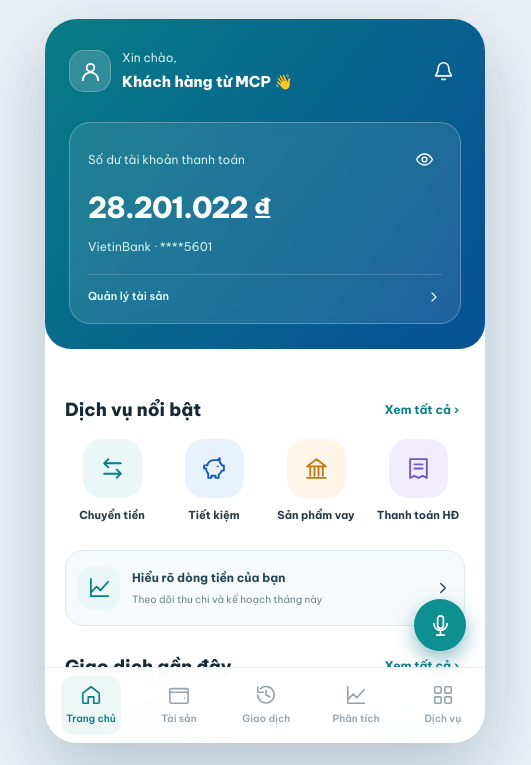
Test case: shows the backend profile and prevents demo bills from changing its balance
Check: the text "Khách hàng từ MCP 👋" is shown, box 122,70 -> 293,94
Check: the text "28.201.022 ₫" is shown, box 88,189 -> 271,226
Click the button "Thanh toán HĐ" at (418, 481), box 371,438 -> 465,524
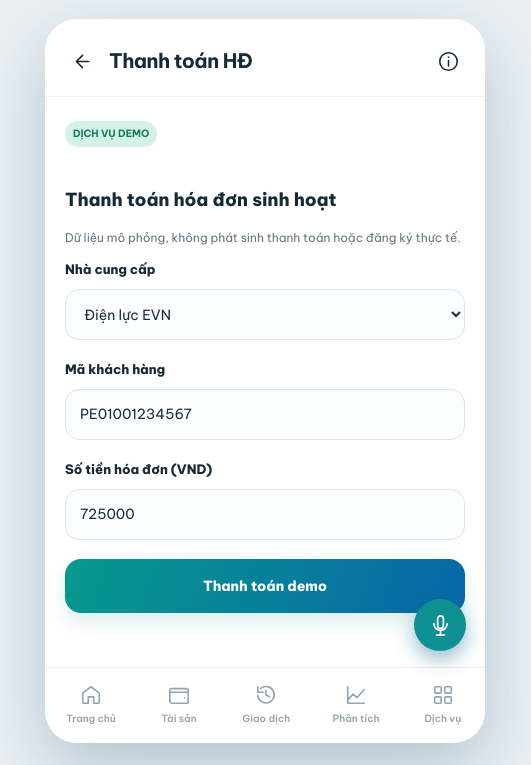
Click the button "Thanh toán demo" at (265, 586), box 65,559 -> 465,613
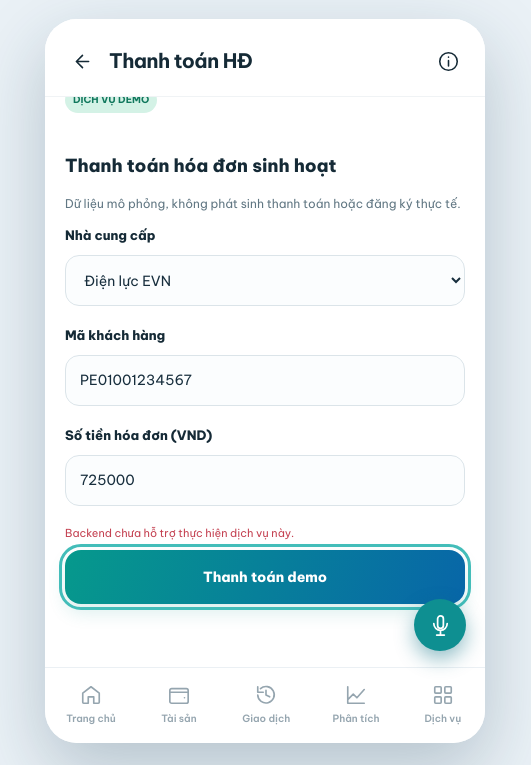
Check: the message shows "Backend chưa hỗ trợ", box 65,526 -> 294,540
Click the button "Trang chủ" at (91, 706), box 61,676 -> 121,735
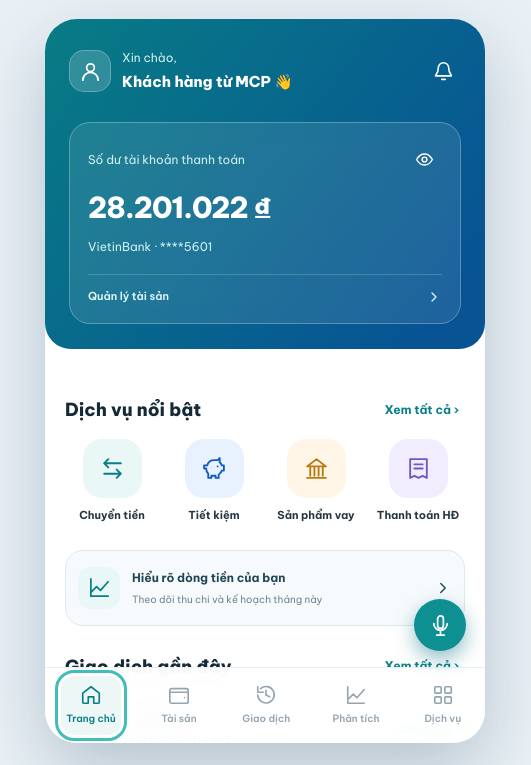
Check: the text "28.201.022 ₫" is shown, box 88,189 -> 271,226
